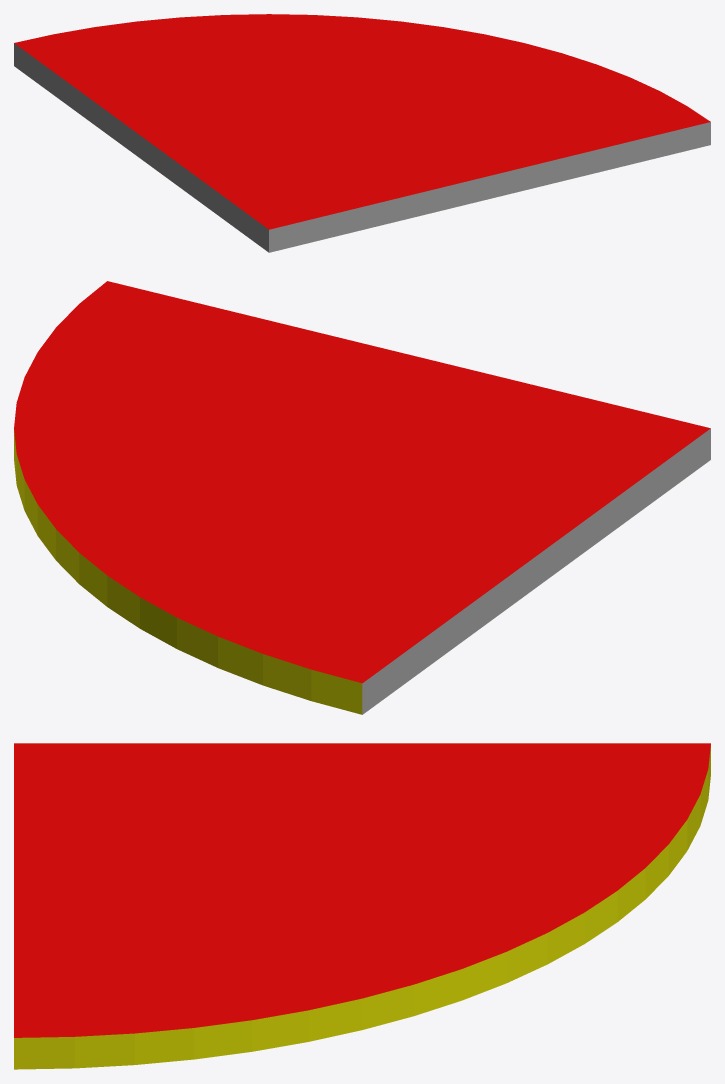
The model's file is UV_TRI_WalkwayCorner_NoRims_2x2_DTG.fbx.
3 views of the same model, one above another, from view 1: azimuth 30°, elevation 25°; view 2: azimuth 150°, elevation 25°; view 3: azimuth 270°, elevation 25° (orthographic). The views are drawn at different scales.
Visible parts, largest first — view 1: WalkwayCorner_NoRim; view 2: WalkwayCorner_NoRim; view 3: WalkwayCorner_NoRim.
Boxes of the visible parts, left/top/right/bottom form: WalkwayCorner_NoRim: left=14, top=14, right=710, bottom=252; WalkwayCorner_NoRim: left=14, top=281, right=710, bottom=714; WalkwayCorner_NoRim: left=14, top=743, right=710, bottom=1069.
Size of the model in its own units: 2 by 0.1 by 2.
